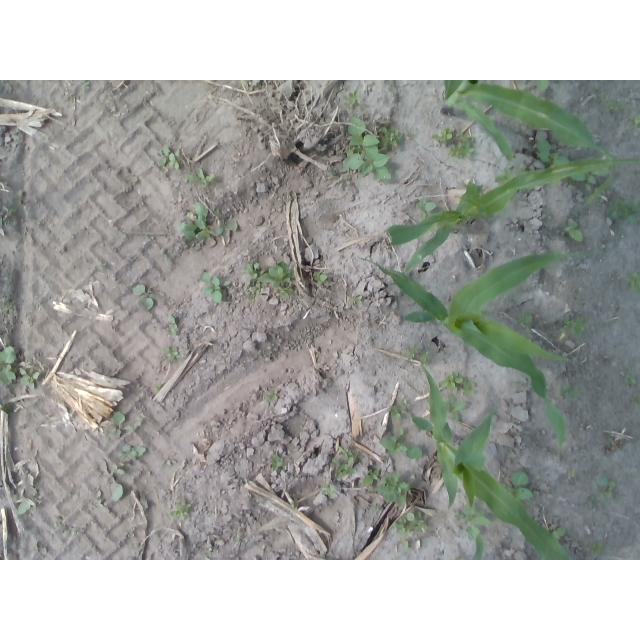Maize: (356, 251, 596, 462), (407, 358, 573, 560), (384, 156, 640, 272), (442, 80, 616, 205)
Weeds: (339, 116, 391, 182), (179, 202, 236, 243), (244, 262, 297, 298), (430, 128, 476, 161), (378, 428, 424, 461), (454, 499, 490, 541), (374, 472, 411, 507), (498, 469, 535, 503), (98, 460, 125, 504), (200, 271, 231, 303), (391, 511, 429, 537), (532, 138, 568, 165), (439, 372, 476, 397), (104, 411, 133, 441), (571, 167, 610, 189), (605, 196, 640, 220), (1, 345, 20, 384), (155, 144, 182, 170), (558, 317, 587, 340), (377, 125, 404, 149), (443, 394, 465, 422), (133, 284, 154, 313), (185, 168, 215, 188), (415, 195, 437, 222), (388, 398, 413, 420), (596, 473, 617, 499), (332, 458, 357, 479), (406, 346, 431, 367), (601, 93, 628, 112), (118, 444, 147, 461), (19, 367, 41, 389), (337, 445, 363, 463), (493, 167, 516, 186), (1, 206, 22, 225), (565, 222, 584, 243), (558, 383, 582, 399), (169, 501, 191, 518), (342, 89, 361, 108), (361, 467, 380, 486), (516, 313, 534, 333), (547, 524, 567, 540), (319, 482, 337, 498), (627, 271, 640, 293), (164, 347, 181, 362), (587, 541, 603, 556), (167, 315, 178, 336), (313, 271, 328, 286), (17, 500, 32, 515), (0, 297, 14, 313), (264, 389, 280, 403), (271, 454, 284, 471), (622, 372, 637, 385), (628, 112, 640, 128), (348, 295, 365, 306), (112, 462, 125, 475), (535, 81, 550, 92), (401, 540, 411, 551), (631, 395, 640, 405), (518, 163, 527, 172), (0, 403, 8, 413), (568, 470, 576, 478), (98, 264, 105, 271), (372, 506, 381, 511), (155, 385, 162, 391)
